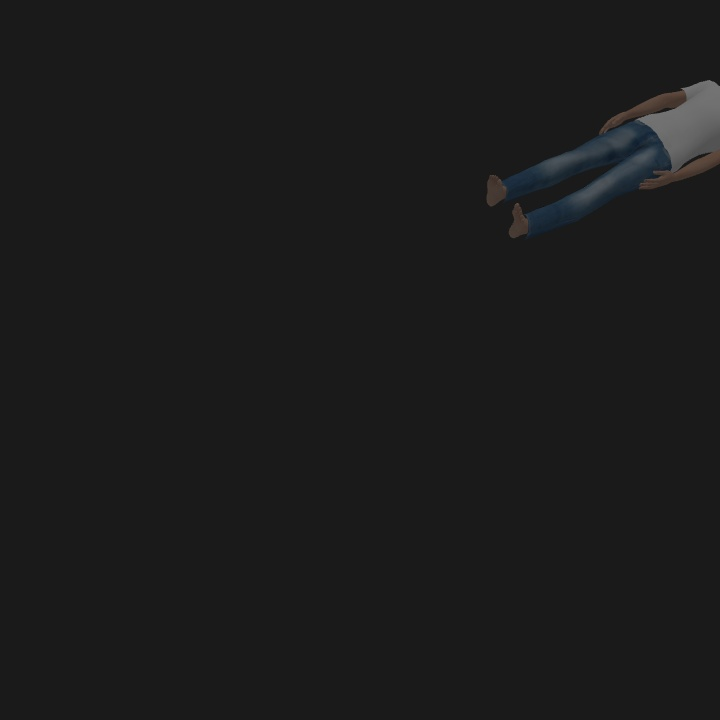victim: (485, 79, 720, 241)
